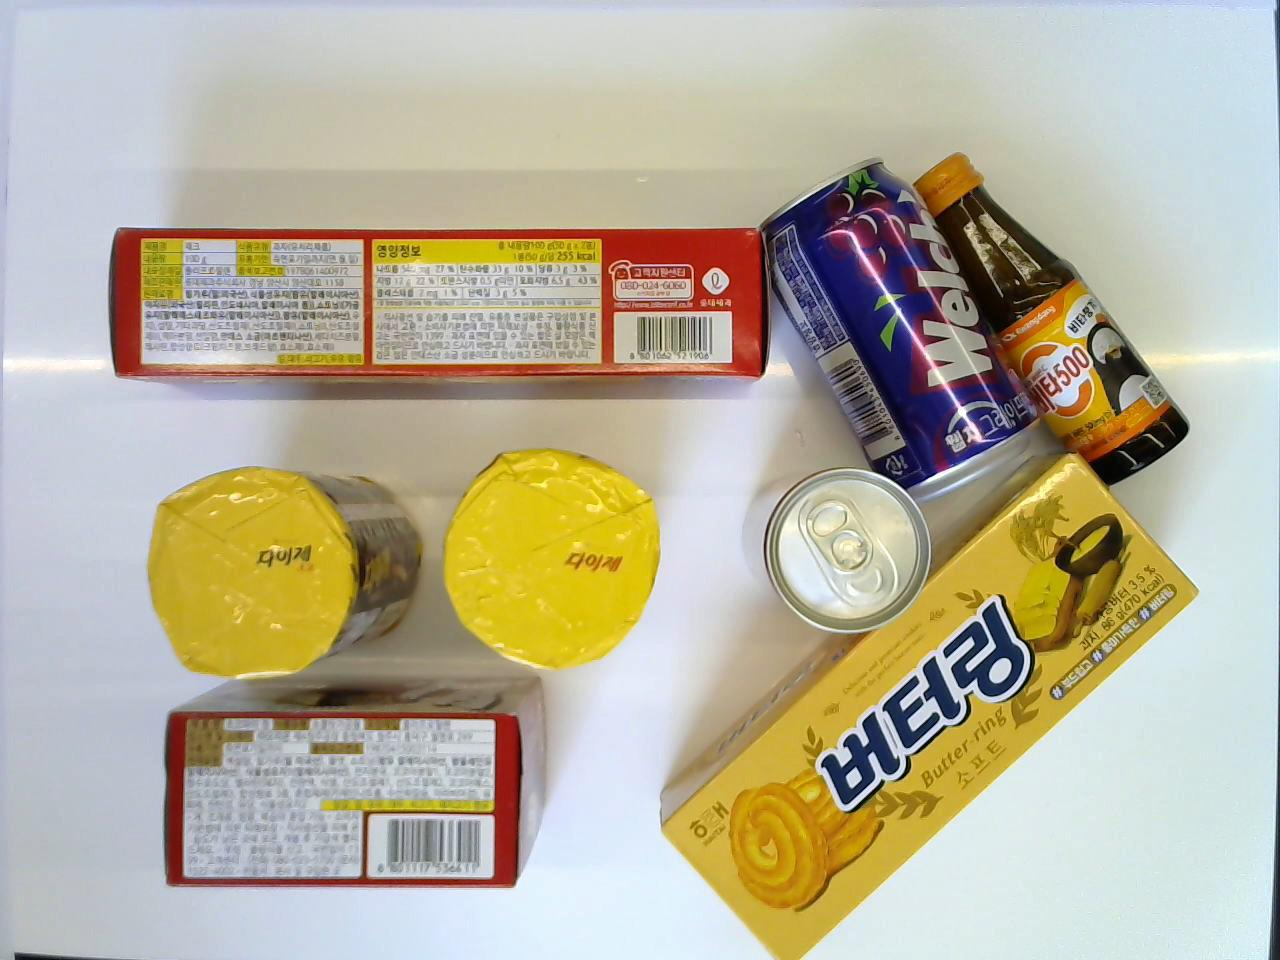buttering: (657, 451, 1201, 956)
chocopie: (162, 675, 546, 889)
coke: (740, 465, 927, 639)
diget_choco: (147, 468, 422, 679)
diget_ori: (438, 448, 661, 672)
vita500: (913, 152, 1195, 491)
welchs: (753, 156, 1040, 506)
zec: (105, 224, 773, 388)
